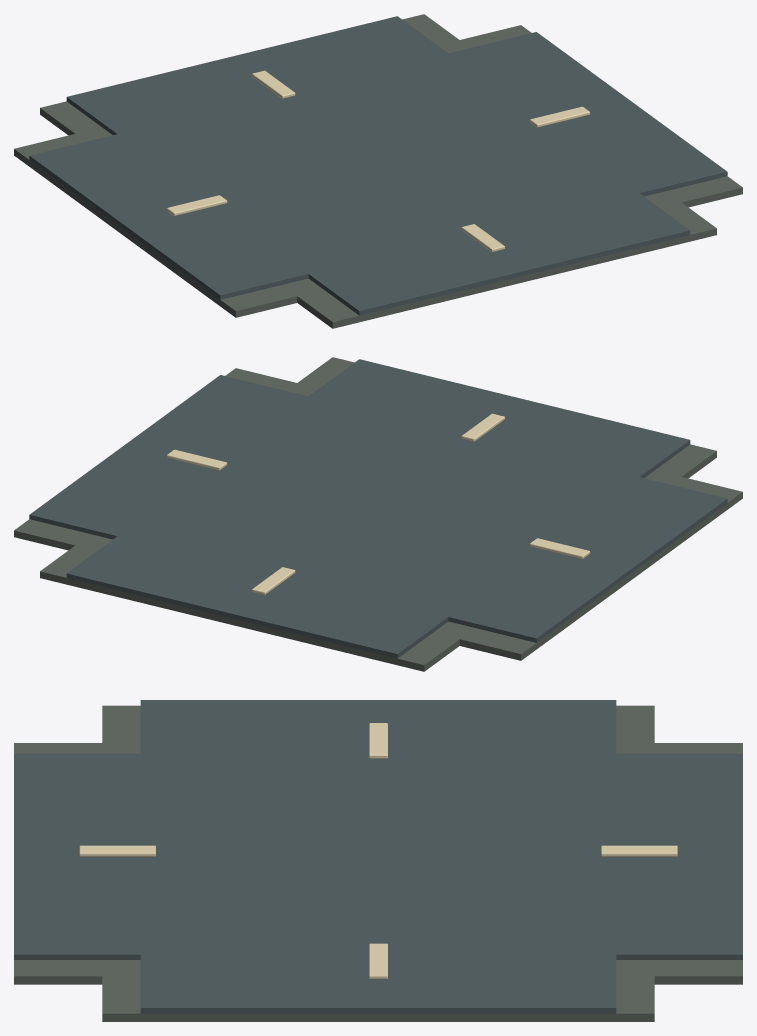
The model's file is road_cross.glb.
3 views of the same model, one above another, from view 1: azimuth 30°, elevation 25°; view 2: azimuth 150°, elevation 25°; view 3: azimuth 270°, elevation 25° (orthographic). The views are drawn at different scales.
Visible parts, largest first — view 1: road_cross · asphalt, road_cross · stone_dark, road_cross · road_line; view 2: road_cross · asphalt, road_cross · stone_dark, road_cross · road_line; view 3: road_cross · asphalt, road_cross · stone_dark, road_cross · road_line.
Boxes of the visible parts, x1=… form: road_cross · asphalt: x1=29, y1=16, x2=727, y2=315; road_cross · stone_dark: x1=14, y1=14, x2=742, y2=328; road_cross · road_line: x1=166, y1=70, x2=590, y2=252; road_cross · asphalt: x1=29, y1=359, x2=727, y2=658; road_cross · stone_dark: x1=14, y1=357, x2=742, y2=671; road_cross · road_line: x1=166, y1=413, x2=590, y2=595; road_cross · asphalt: x1=14, y1=700, x2=742, y2=1013; road_cross · stone_dark: x1=14, y1=705, x2=742, y2=1021; road_cross · road_line: x1=79, y1=723, x2=677, y2=979.
Bounding box in the file's own units: 0.95 × 0.027 × 0.95.
